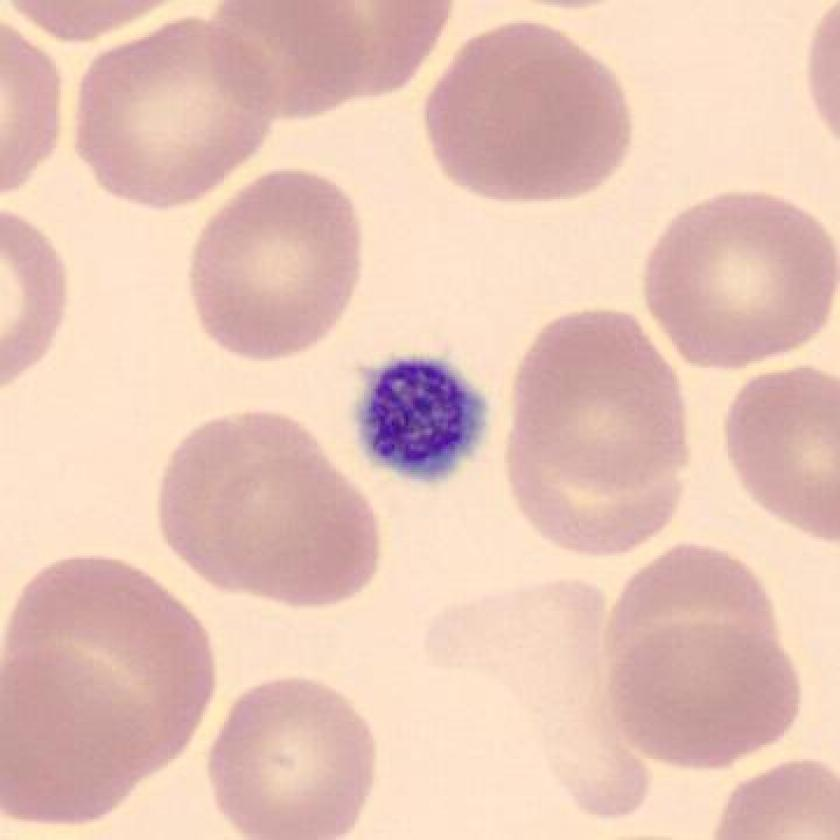platelets: (354, 348, 494, 492)
